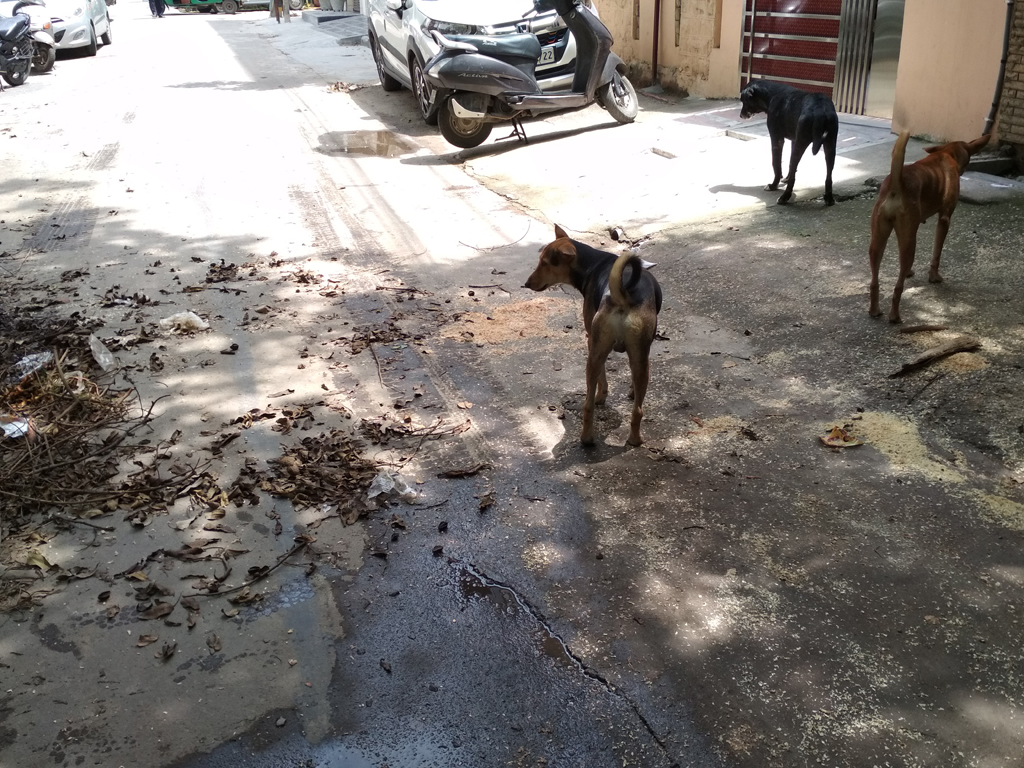dog: (527, 223, 664, 447), (865, 126, 992, 324), (739, 80, 839, 205)
